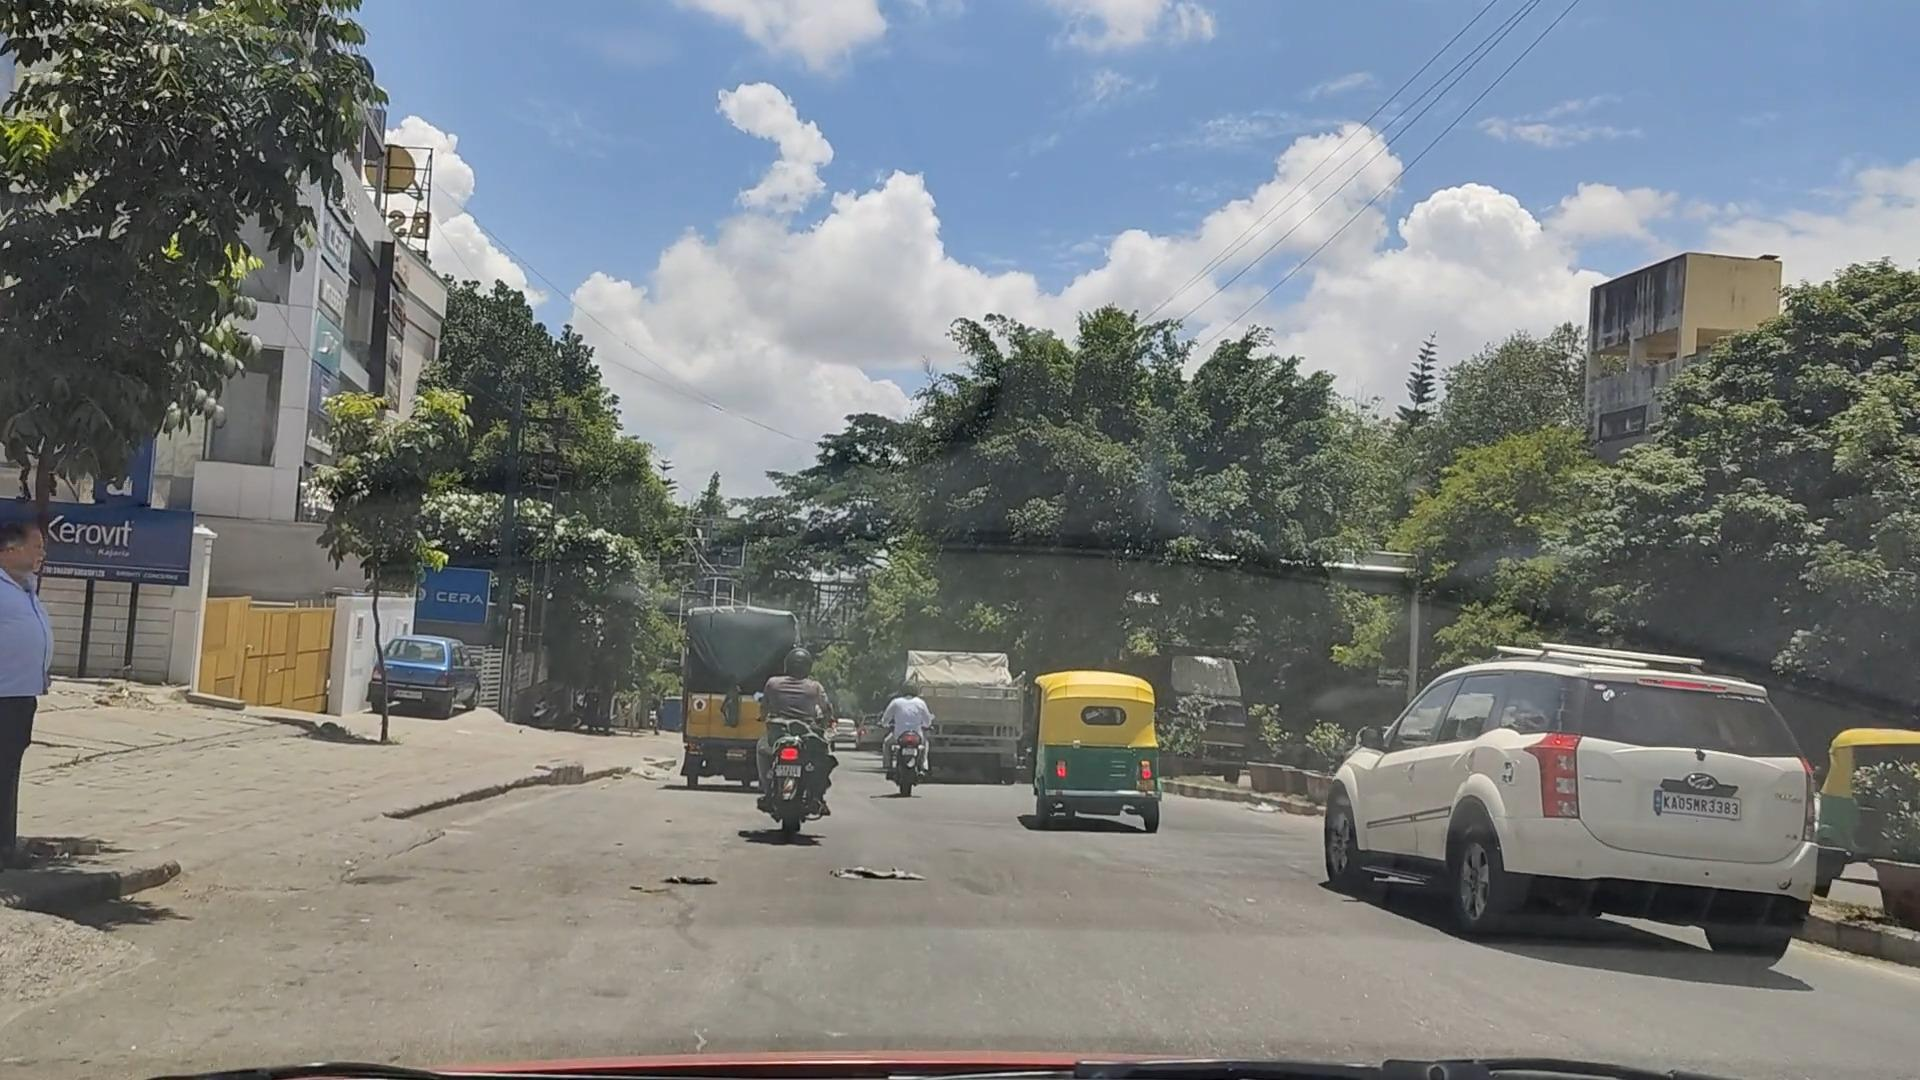HMV: (843, 603, 1018, 804), (659, 574, 815, 796)
